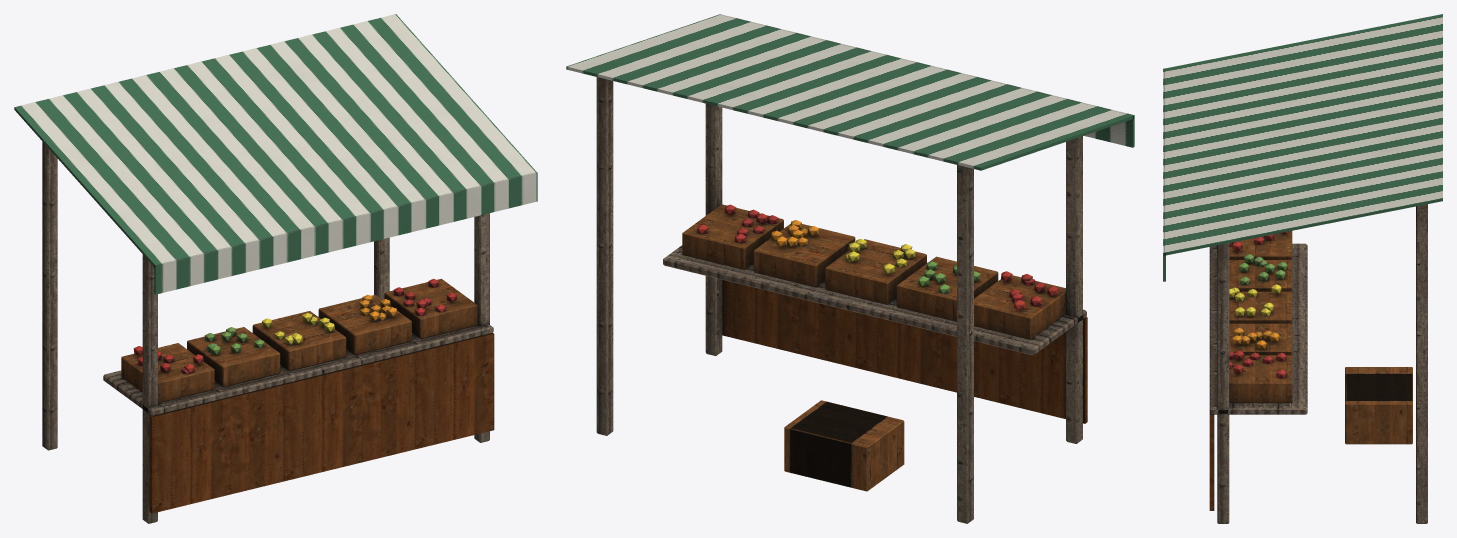
The model's file is market_stall_green.glb.
The picture shows the model from 3 angles, left to right: view 1: azimuth 30°, elevation 25°; view 2: azimuth 150°, elevation 25°; view 3: azimuth 270°, elevation 25°; orthographic projection. The views are drawn at different scales.
Parts seen in each view (by area): view 1: market_stall_green; view 2: market_stall_green; view 3: market_stall_green.
Boxes of the visible parts, <box> form: market_stall_green: <box>14,14,537,523</box>; market_stall_green: <box>566,14,1134,523</box>; market_stall_green: <box>1163,14,1442,523</box>.
Size of the model in its own units: 2.9 by 2.46 by 1.86.
Materials: 1 (1 with a texture image).
